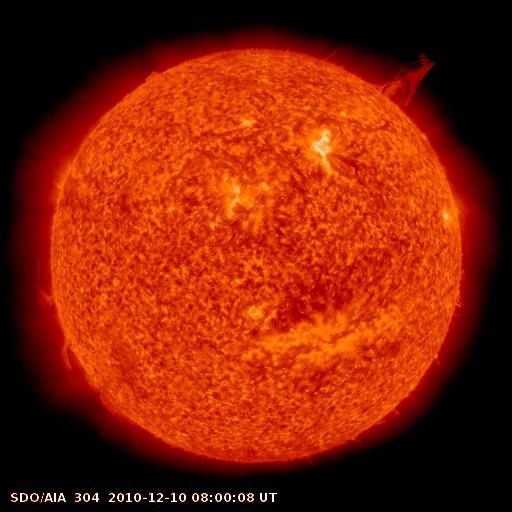prominence: (364, 44, 444, 118), (23, 243, 69, 315), (42, 327, 93, 386), (97, 388, 148, 433), (133, 55, 174, 100), (444, 265, 473, 321)
